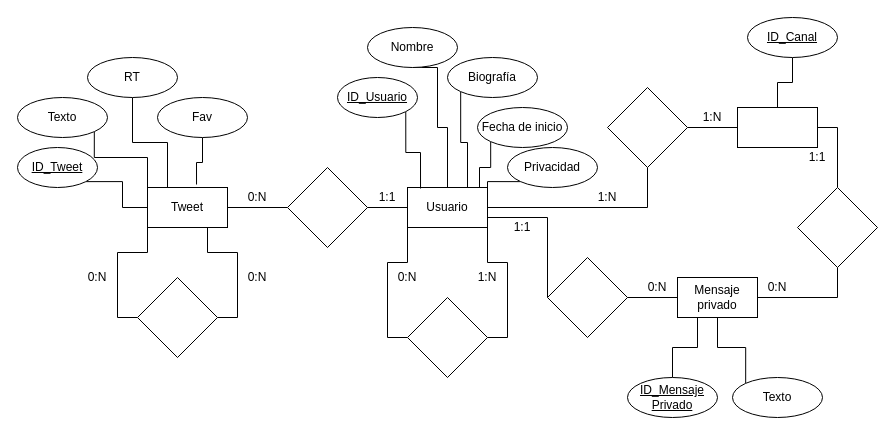
Some shapes in this 895 by 435 pixel diagram are drawn without their labels. The centre of each missing label's shape, as x and y in pixels:
"Canal" goes at (777,127).
"Envia" goes at (837,227).
"Es miembro" goes at (647,127).
"Manda" goes at (587,297).
"nuevo tweet" goes at (327,207).
"Responder" goes at (177,317).
"Seguir" goes at (447,337).
